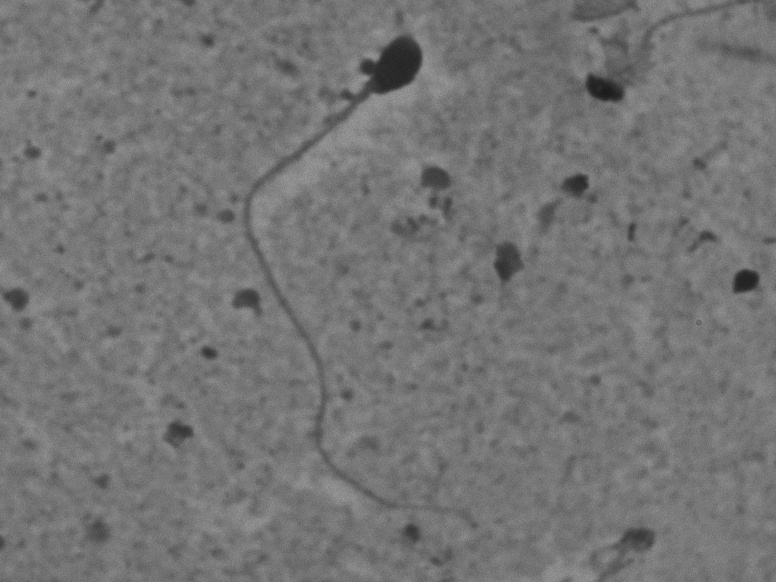Abnormal: (168, 24, 540, 534)
